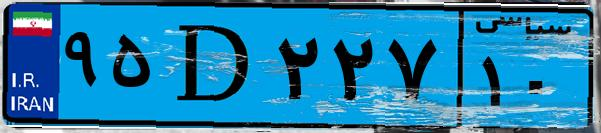0: (525, 38, 570, 115)
1: (475, 38, 525, 113)
2: (270, 28, 330, 110), (330, 28, 385, 110)
5: (110, 28, 158, 98)
7: (385, 28, 445, 110)
9: (57, 26, 110, 100)
D: (158, 12, 270, 120)
